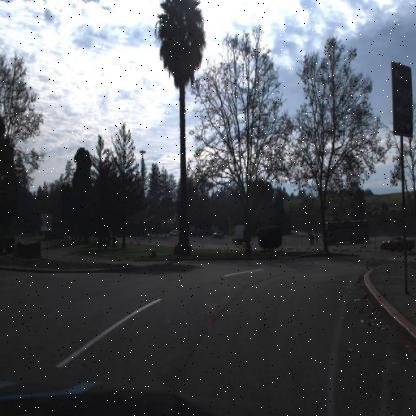car: (378, 233, 414, 257), (105, 222, 120, 245), (208, 229, 224, 244)
truck: (320, 216, 371, 247), (229, 223, 251, 246)
